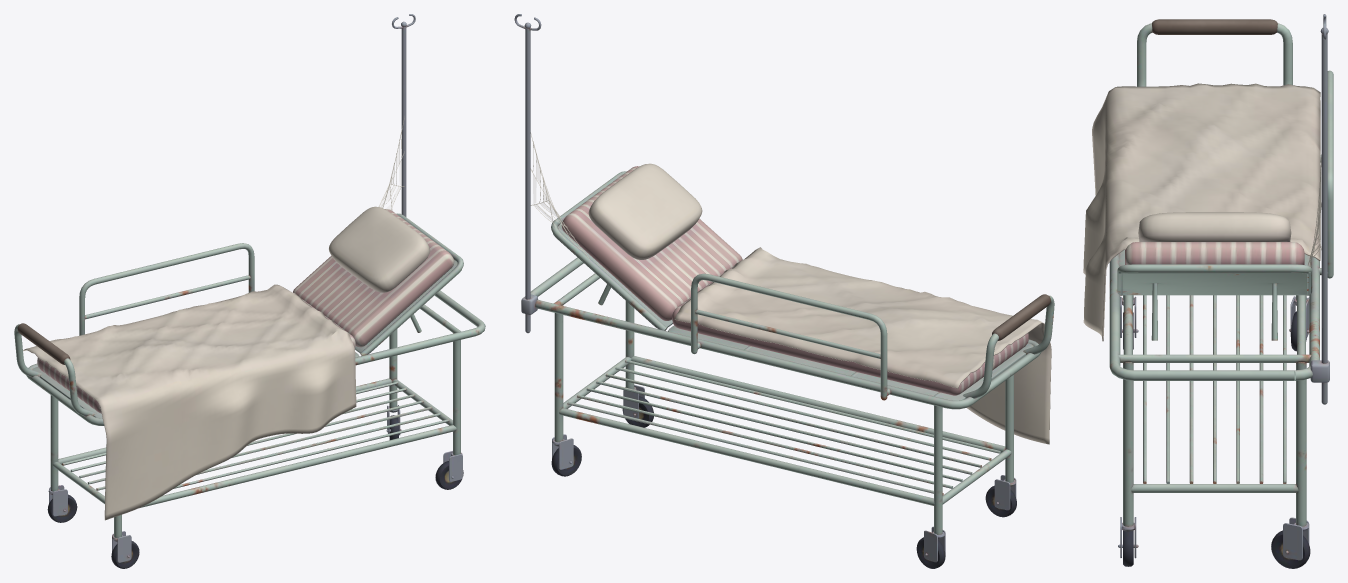
The model's file is hospital-gurney.glb.
3 renders of one model, left to right at view 1: azimuth 30°, elevation 25°; view 2: azimuth 150°, elevation 25°; view 3: azimuth 270°, elevation 25°, orthographic. The views are drawn at different scales.
Parts seen in each view (by area): view 1: hospital-gurney_body; view 2: hospital-gurney_body, hospital-gurney_web; view 3: hospital-gurney_body, hospital-gurney_web.
Boxes of the visible parts, x1,y1,x2,y2 form: hospital-gurney_body: [14, 14, 485, 568]; hospital-gurney_body: [514, 14, 1054, 568]; hospital-gurney_web: [530, 132, 589, 259]; hospital-gurney_body: [1083, 14, 1333, 568]; hospital-gurney_web: [1308, 154, 1321, 267].
Size of the model in its own units: 1.97 by 1.87 by 0.7522.
Materials: 3 (1 with a texture image).
